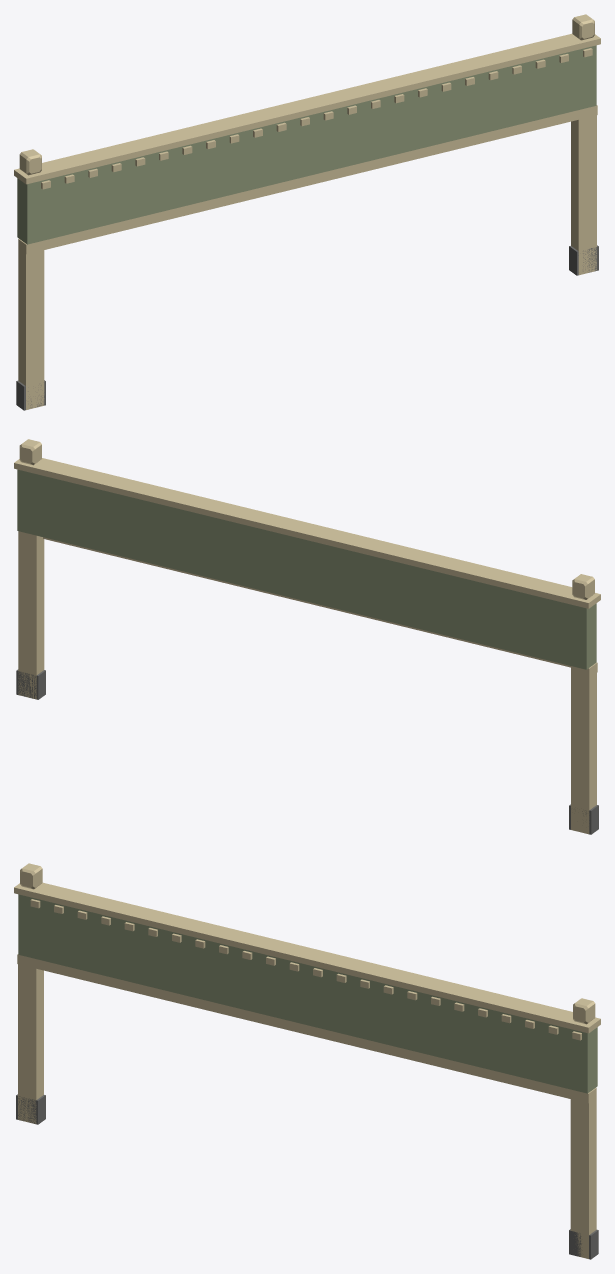
The model's file is SM_Bld_Shop_Front_03.glb.
The picture shows the model from 3 angles, top to bottom: view 1: azimuth 30°, elevation 25°; view 2: azimuth 150°, elevation 25°; view 3: azimuth 330°, elevation 25°; orthographic projection.
Parts seen in each view (by area): view 1: SM_Bld_Shop_Front_03; view 2: SM_Bld_Shop_Front_03; view 3: SM_Bld_Shop_Front_03.
Boxes of the visible parts, x1,y1,x2,y2 form: SM_Bld_Shop_Front_03: [14, 14, 600, 410]; SM_Bld_Shop_Front_03: [14, 439, 600, 834]; SM_Bld_Shop_Front_03: [14, 863, 600, 1259].
Size of the model in its own units: 12.52 by 5.24 by 0.46.
Materials: 1 (1 with a texture image).
